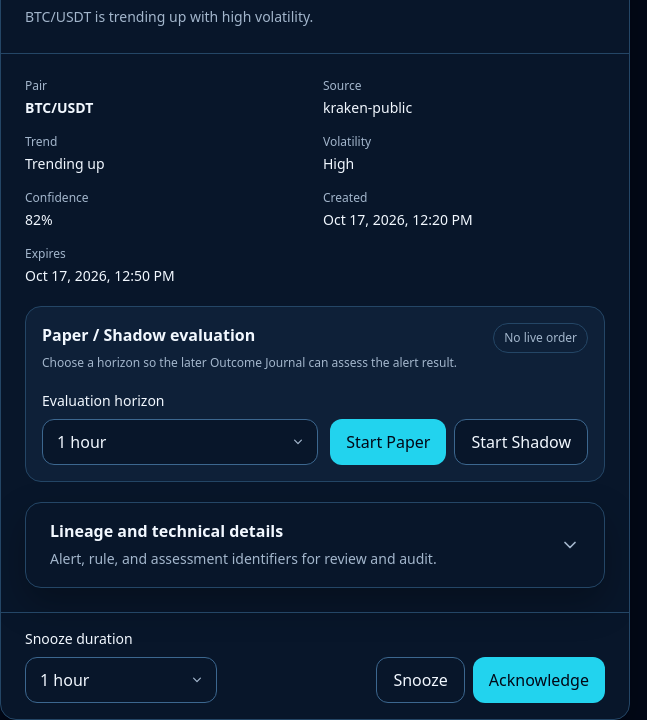
AlertCenter › starts an idempotent offline paper evaluation from an alert
(page scrolled)
Click the button "Start Paper". click: [388, 442]
box: top-left (330, 419), bottom-right (446, 465)
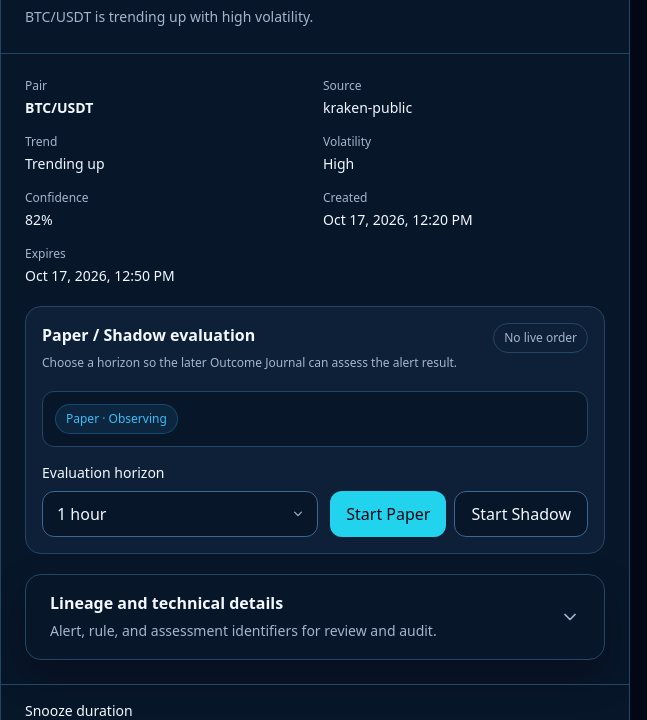
Expected: the text "Paper · Observing" is shown, top-left (55, 404), bottom-right (178, 434)
